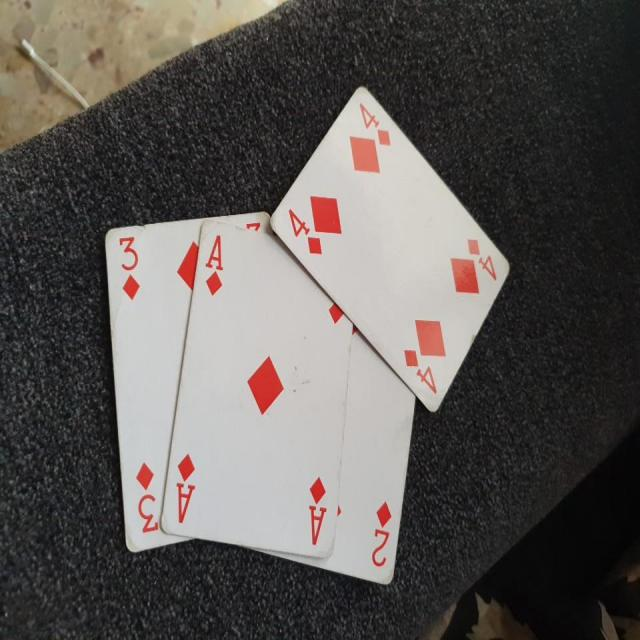2 Diamonds: (272, 314, 425, 588)
3 Diamonds: (97, 207, 276, 552)
4 Diamonds: (269, 83, 512, 417)
A Diamonds: (160, 211, 353, 548)
